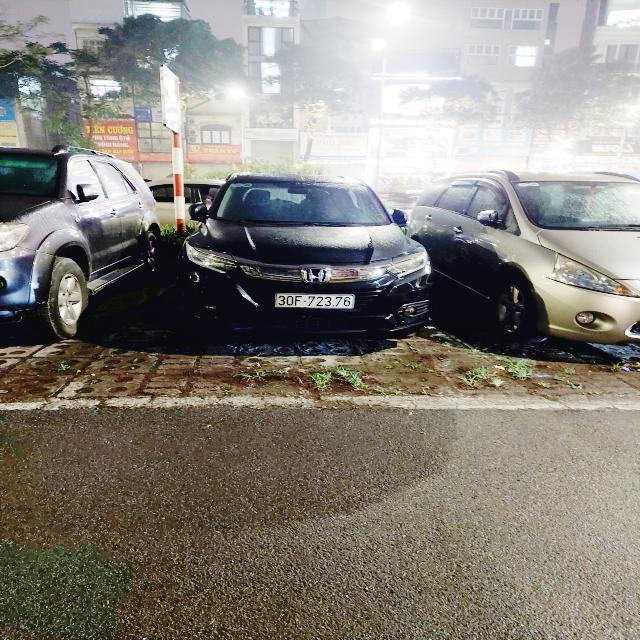license_plate: (272, 292, 360, 313)
